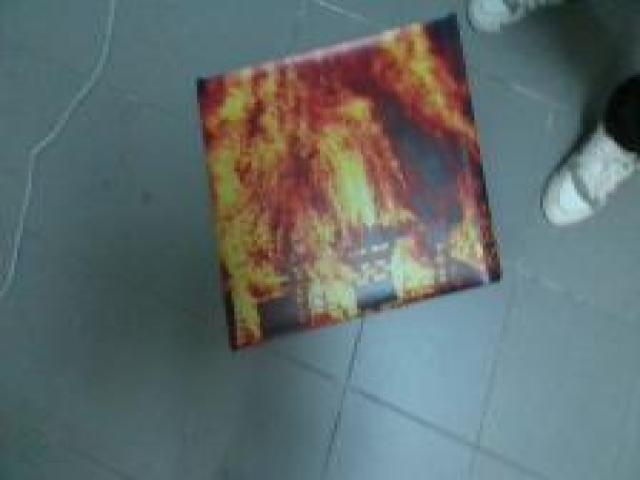fire-poster: (191, 13, 506, 351)
